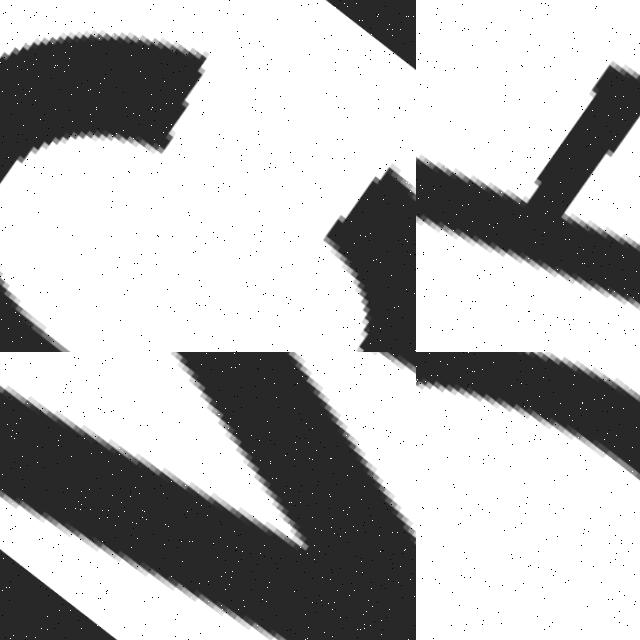C: (0, 23, 416, 352)
F: (416, 0, 640, 352)
N: (0, 352, 416, 640)
O: (416, 352, 640, 640)
